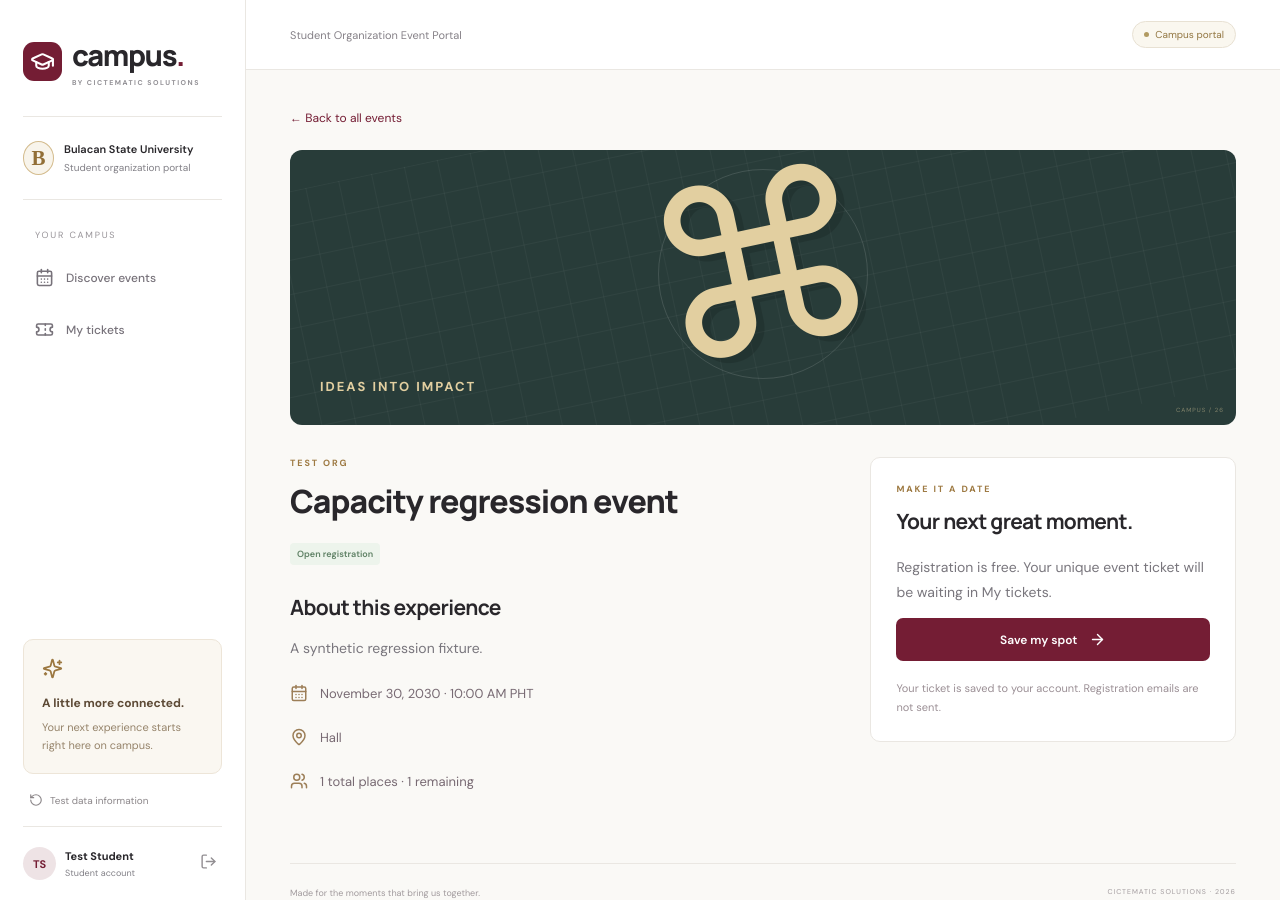
Test: shared availability refresh › keeps an accepted registration successful when refreshing the snapshot fails
Click the button "Save my spot" at (1053, 640), box [896, 618, 1210, 661]
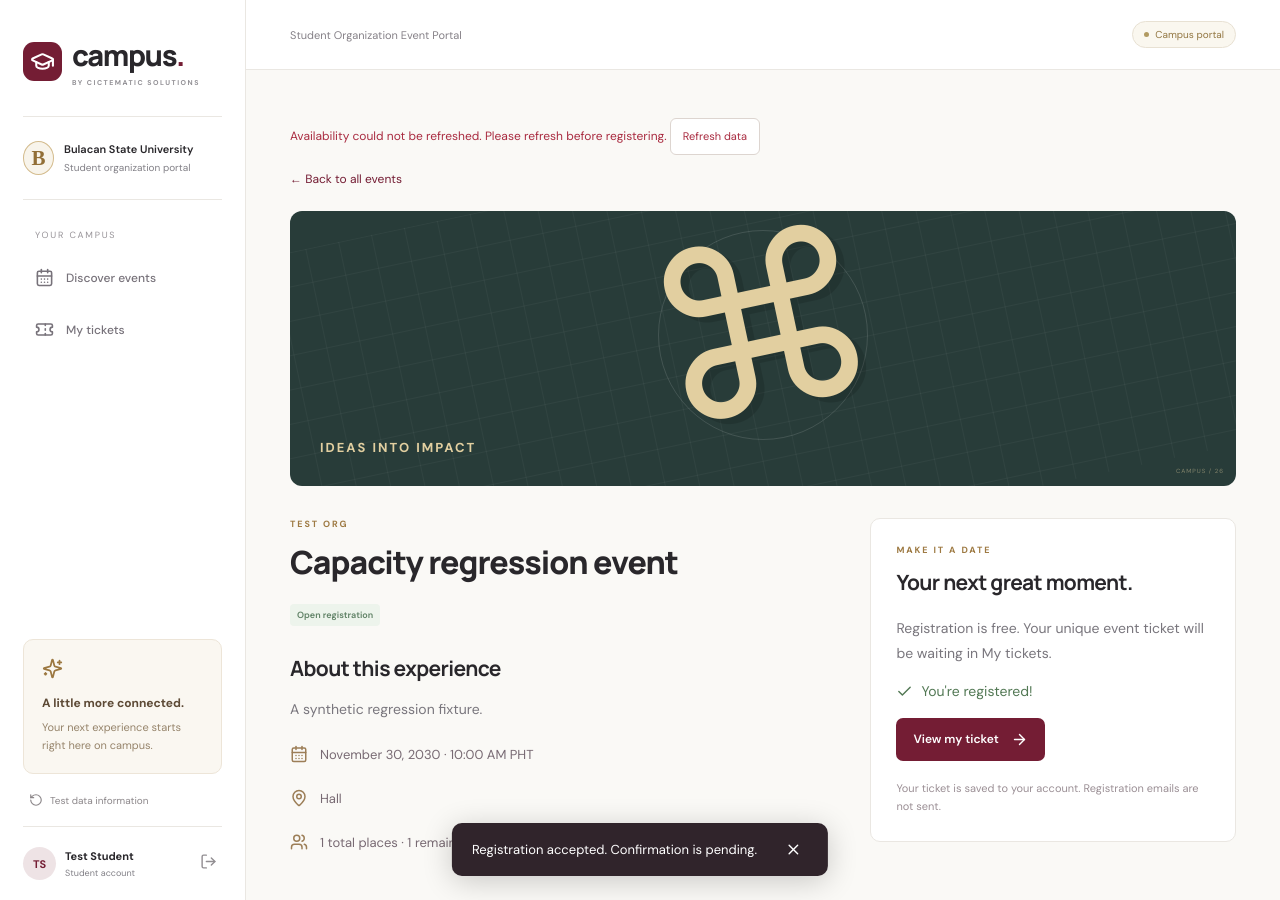
Expected: the message with test id "availability-error" is shown, [290, 118, 760, 155]
Expected: the button "Save my spot" is gone
